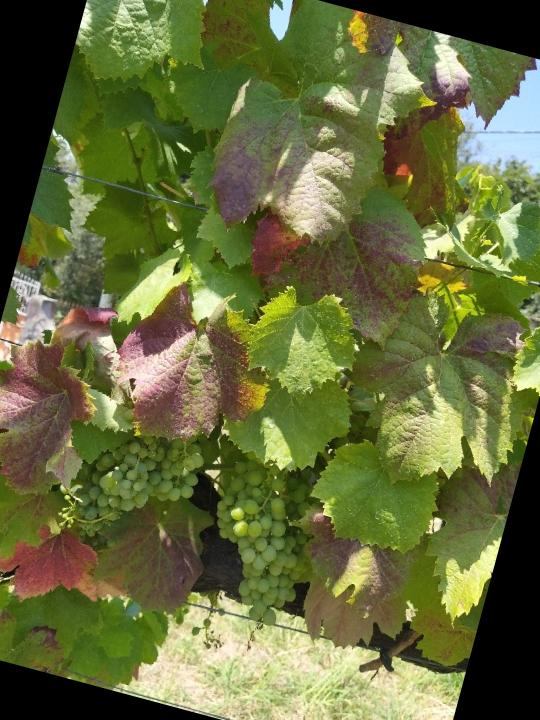grape: (174, 440, 350, 669), (65, 415, 210, 570)
